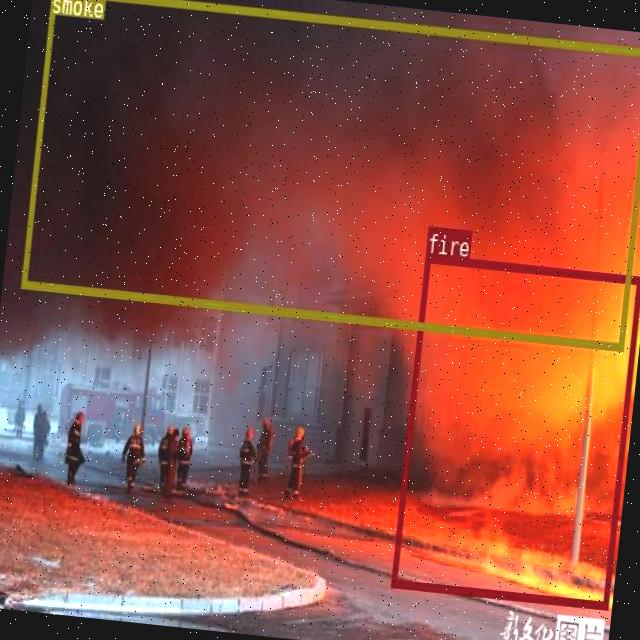fire: (389, 253, 640, 607)
smoke: (19, 0, 640, 349)
